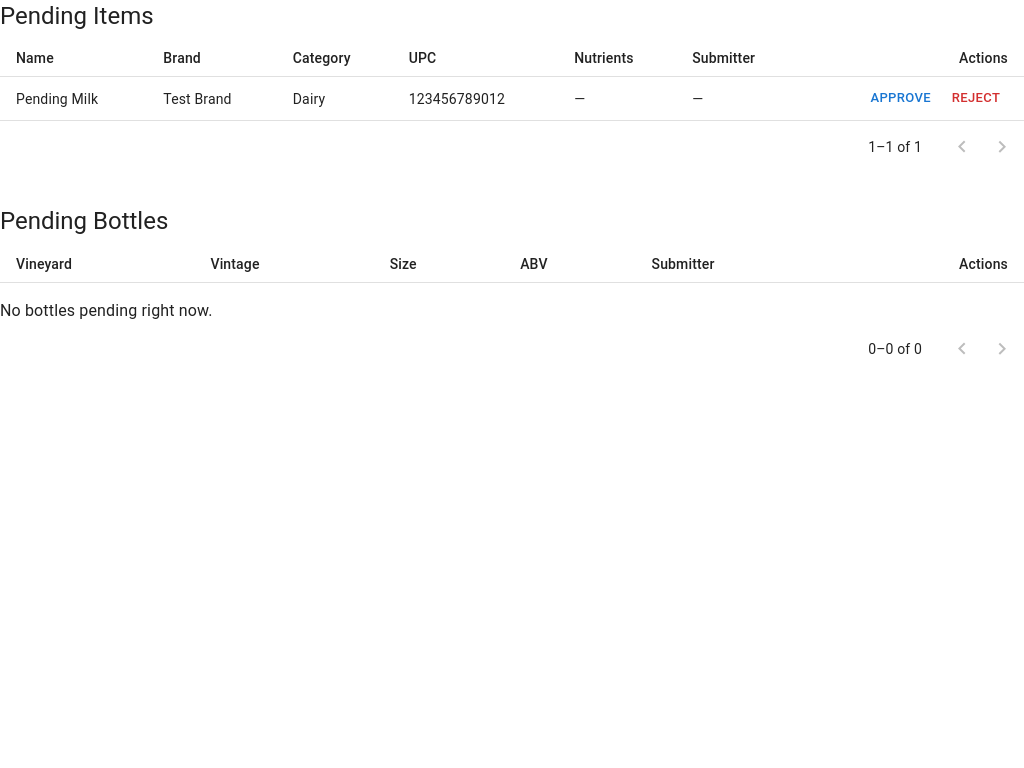
Test: pending items admin page › cancels the confirm dialog
Expected: the text "Pending Milk" is shown, [0,77,147,121]
Click the button "Approve" at (901,99), box [865,83,936,114]
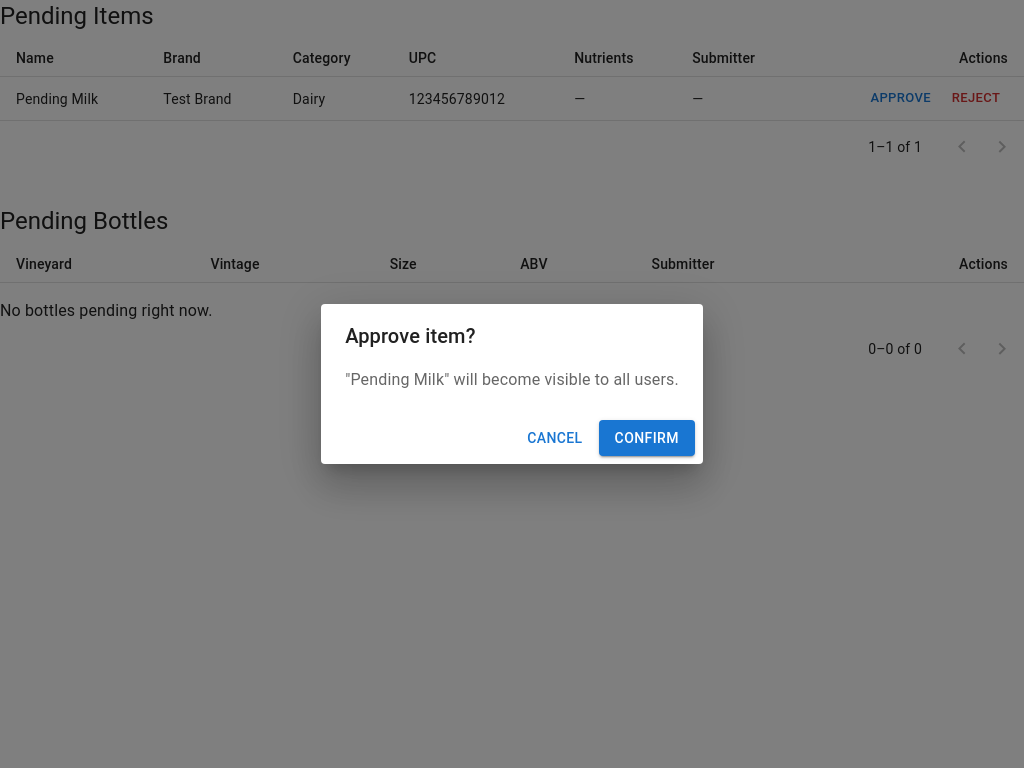
Click the button "Cancel" at (555,438), box [519,420,591,456]
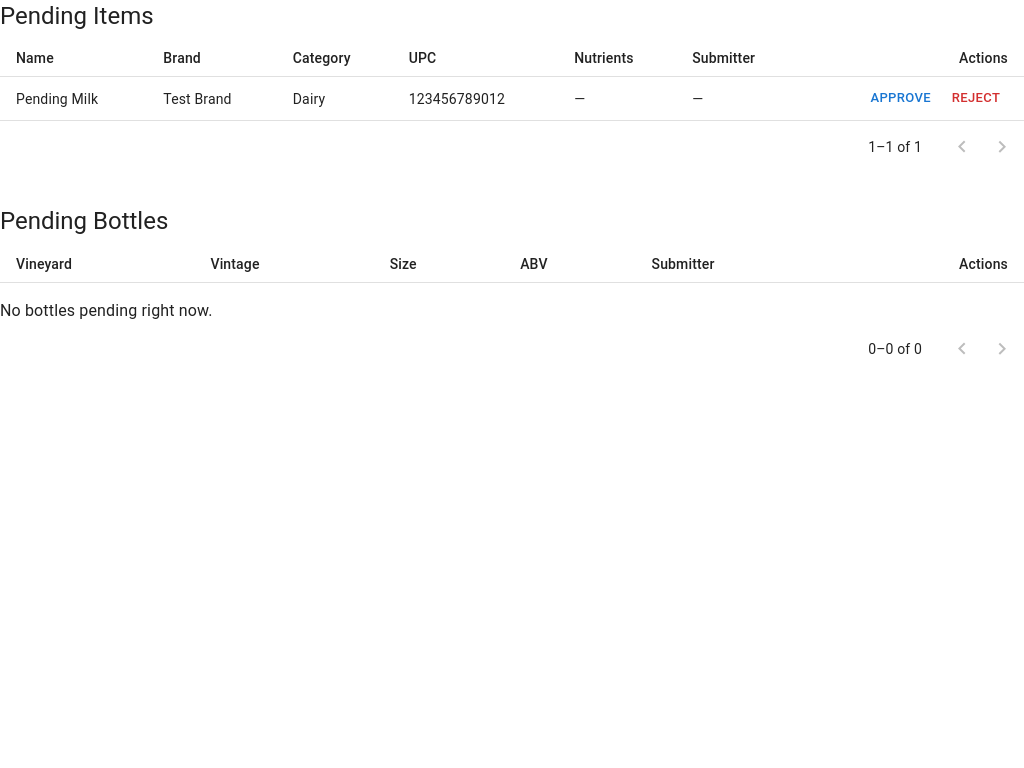
Expected: the text "will become visible" is gone
